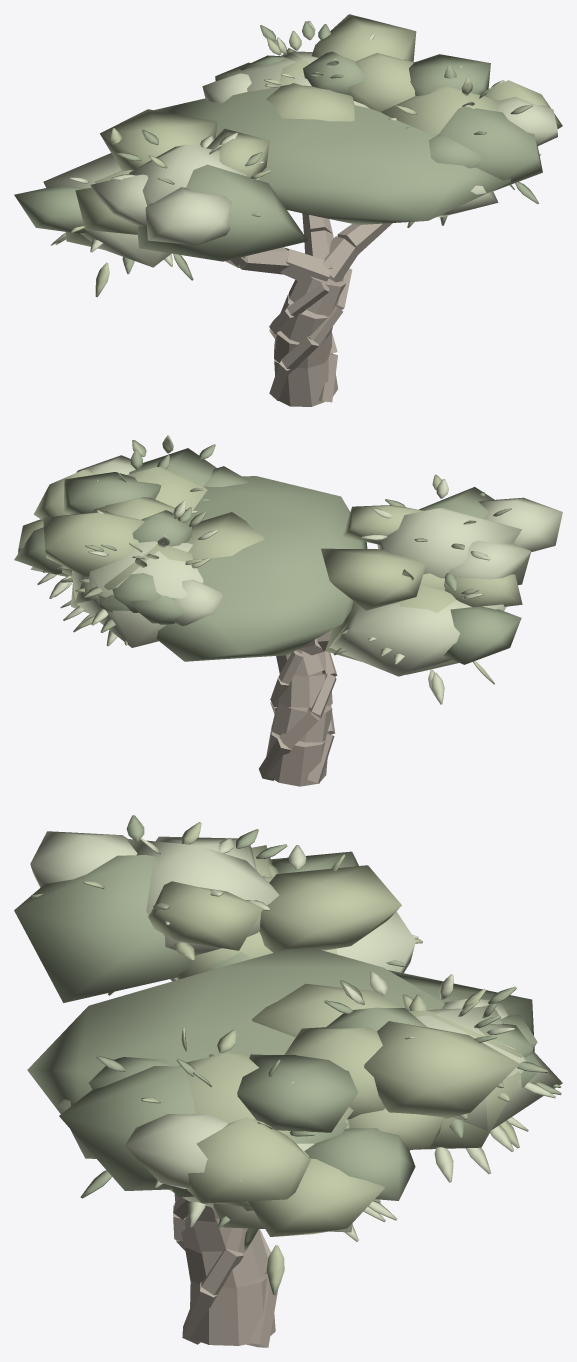
File: Olive_Tree_3.gltf
3 renders of one model, top to bottom at view 1: azimuth 30°, elevation 25°; view 2: azimuth 150°, elevation 25°; view 3: azimuth 270°, elevation 25°, orthographic. The views are drawn at different scales.
Parts seen in each view (by area): view 1: Olive_Tree_3; view 2: Olive_Tree_3; view 3: Olive_Tree_3.
Part boxes in pixels (<box>): Olive_Tree_3: <box>14,14,562,406</box>; Olive_Tree_3: <box>14,435,562,786</box>; Olive_Tree_3: <box>14,815,562,1347</box>.
Bounding box in the file's own units: 4.28 × 2.52 × 2.97.
